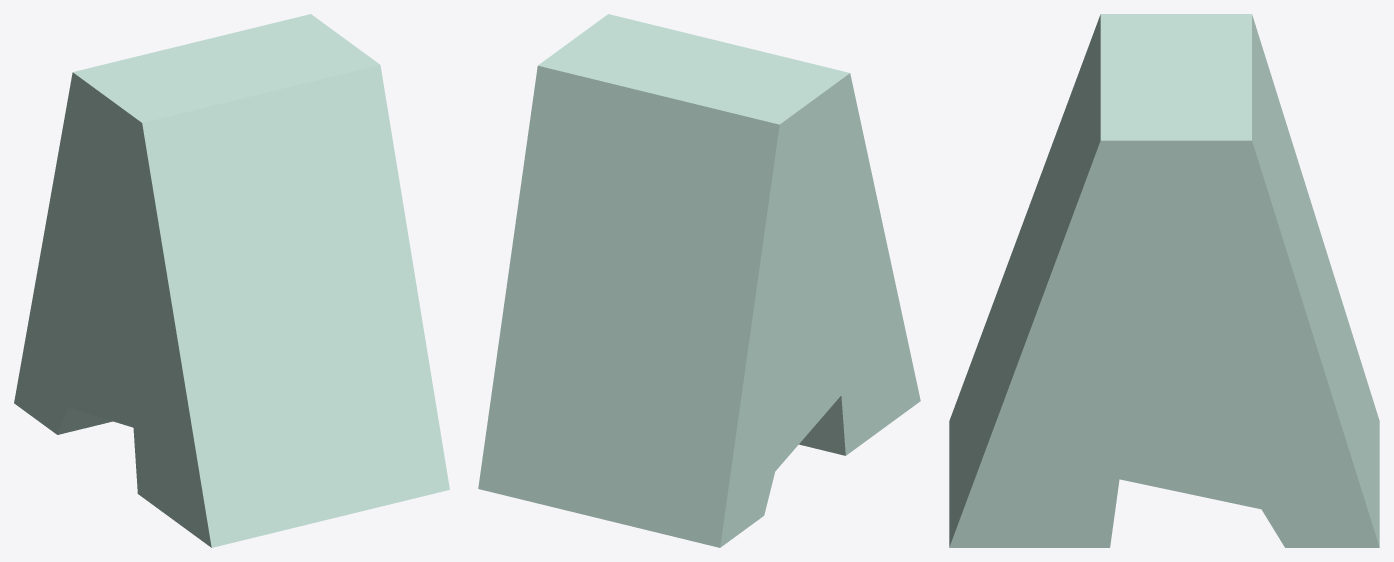
The picture shows the model from 3 angles, left to right: view 1: azimuth 30°, elevation 25°; view 2: azimuth 150°, elevation 25°; view 3: azimuth 270°, elevation 25°; orthographic projection. The views are drawn at different scales.
Visible parts, largest first — view 1: Renderer Node; view 2: Renderer Node; view 3: Renderer Node.
Boxes of the visible parts, <box> form: Renderer Node: <box>14,14,449,547</box>; Renderer Node: <box>478,14,920,547</box>; Renderer Node: <box>949,14,1379,547</box>.
Size of the model in its own units: 0.5 by 0.75 by 0.7184.
